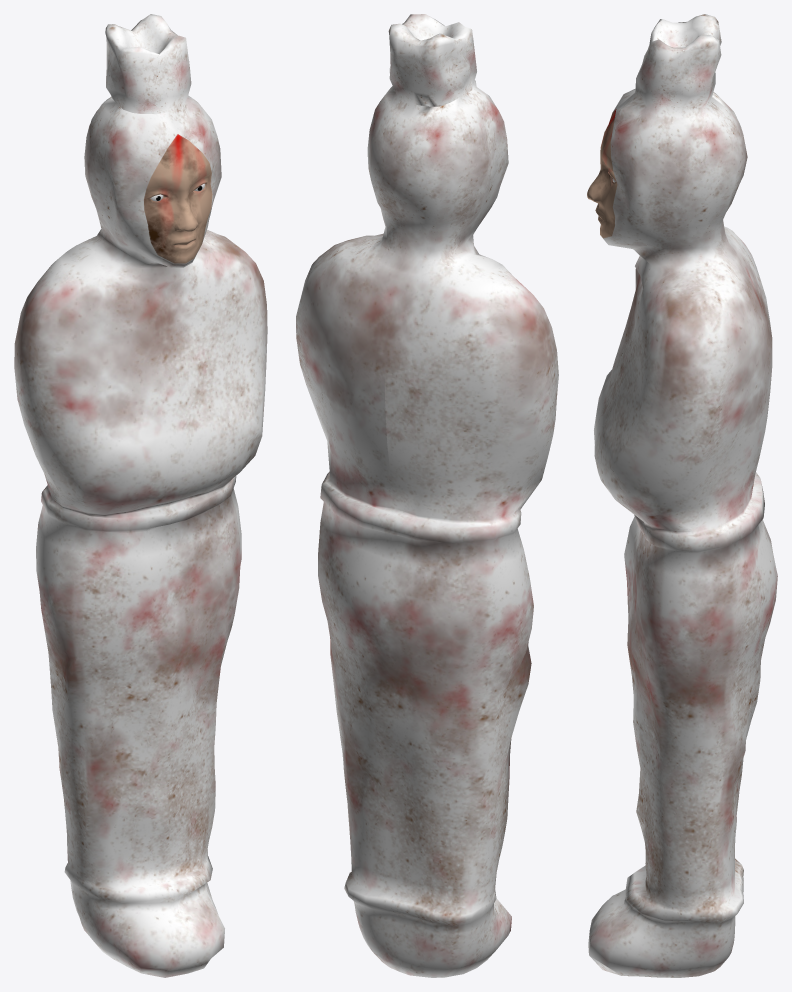
The model's file is pocong.glb.
3 renders of one model, left to right at view 1: azimuth 30°, elevation 25°; view 2: azimuth 150°, elevation 25°; view 3: azimuth 270°, elevation 25°, orthographic. The views are drawn at different scales.
Visible parts, largest first — view 1: Pocong; view 2: Pocong; view 3: Pocong.
Part boxes in pixels (<box>): Pocong: <box>14,14,267,977</box>; Pocong: <box>296,14,558,977</box>; Pocong: <box>587,14,777,977</box>.
Size of the model in its own units: 0.5043 by 1.84 by 0.3398.
Materials: 1 (1 with a texture image).
